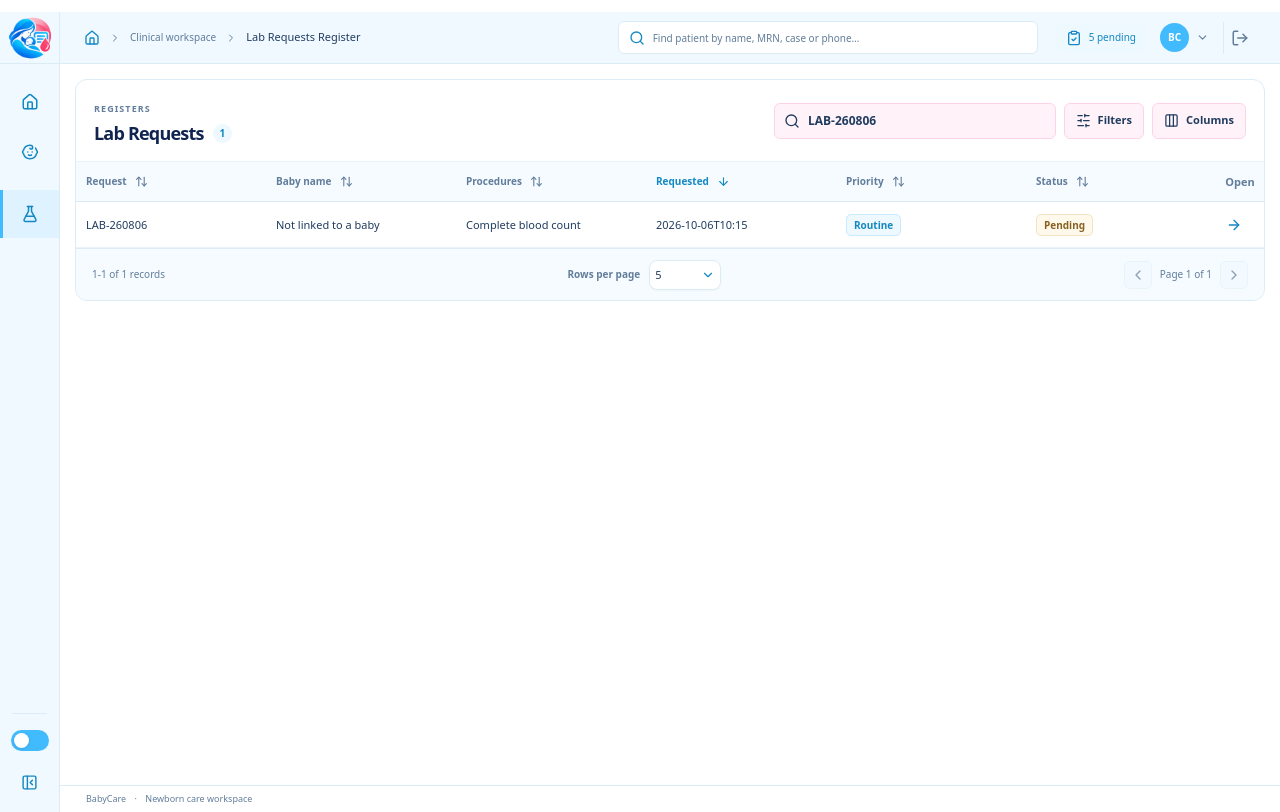
Test: shows an unlinked request without selecting an unrelated baby
This screenshot has width=1280, height=812.
Click the link named "Open request LAB-260806" at {"x": 1240, "y": 217}, box [1226, 217, 1242, 233]
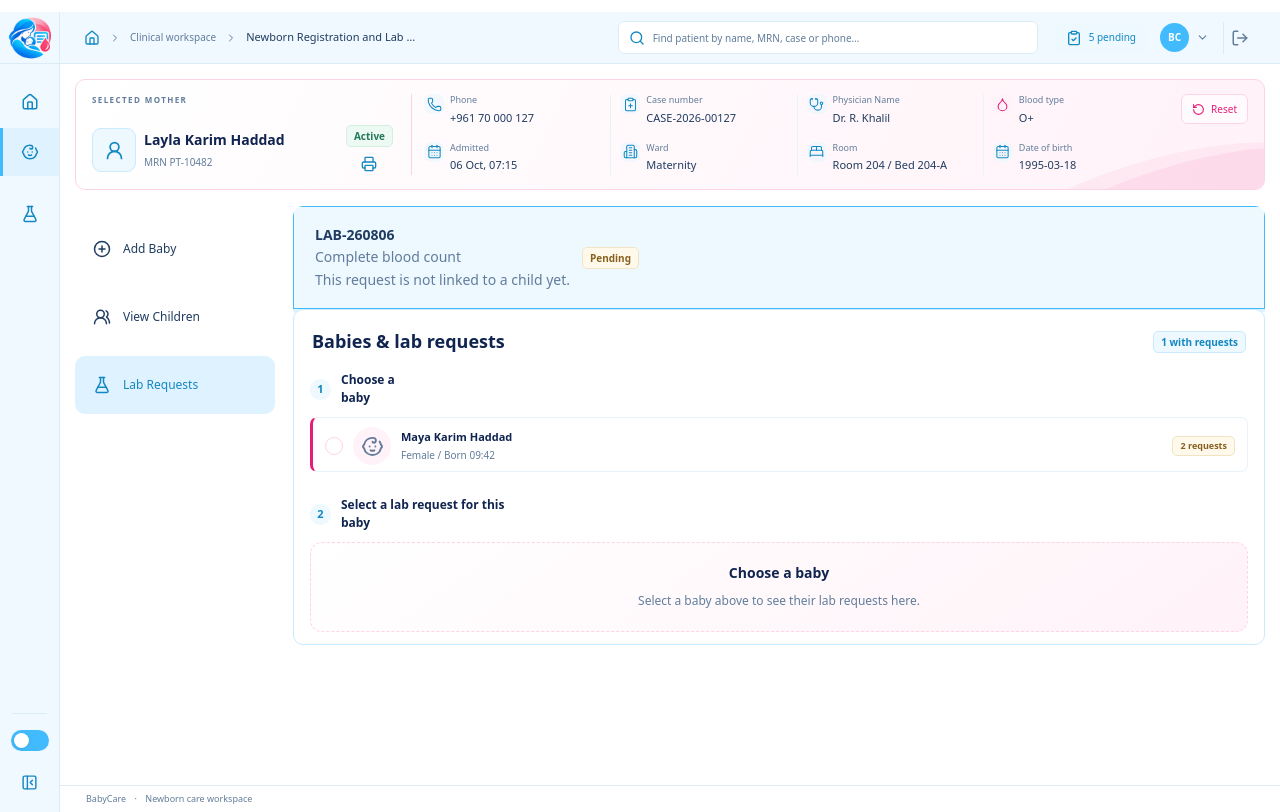
Check: the text "This request is not linked to a child yet." is shown, box [315, 268, 570, 291]
